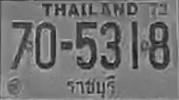0: (34, 21, 56, 68)
1: (131, 21, 138, 69)
3: (100, 21, 120, 69)
5: (76, 21, 96, 69)
7: (11, 21, 32, 69)
8: (148, 21, 169, 69)
RBR: (66, 74, 118, 100)
